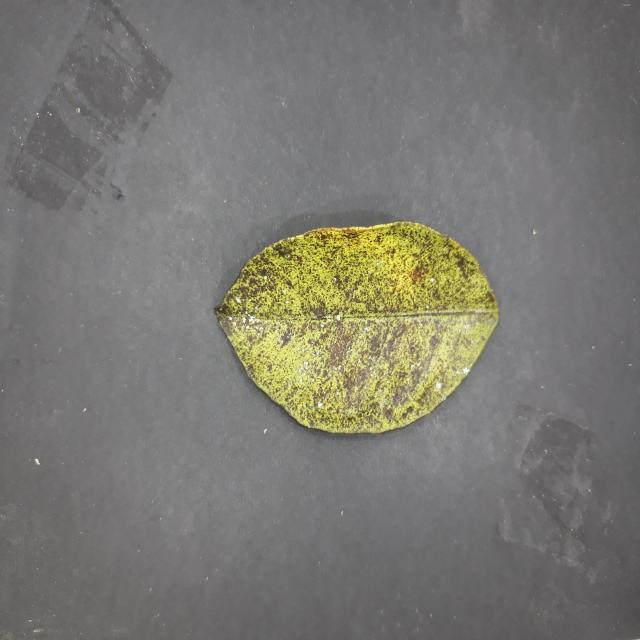greasy_spot: (216, 222, 498, 434)
